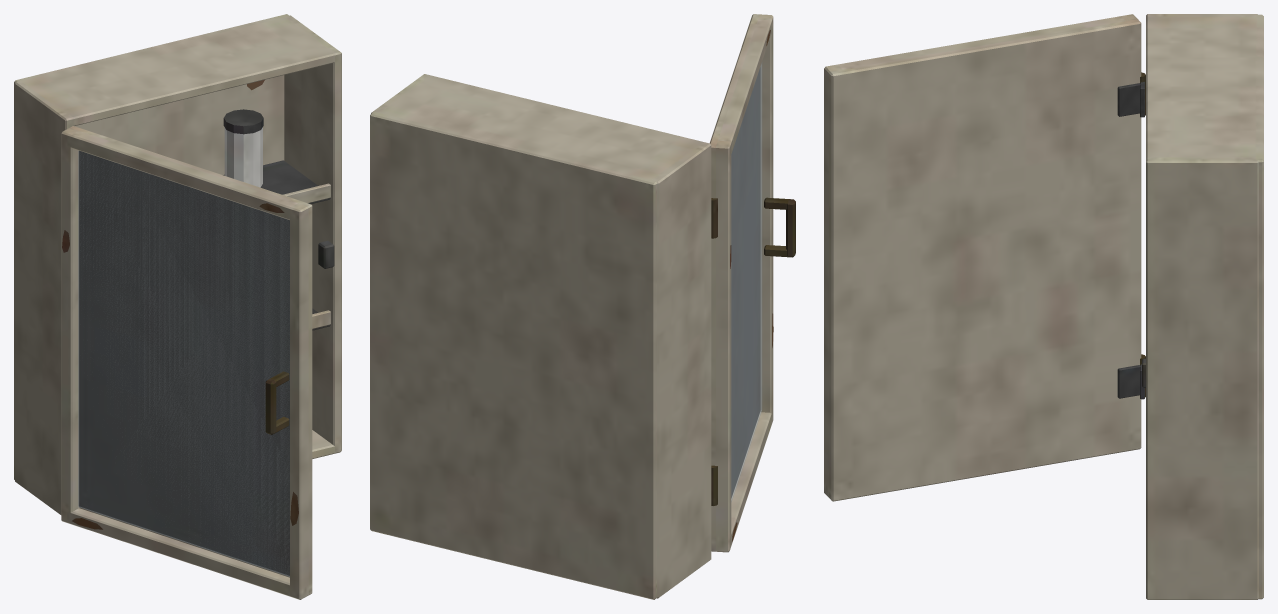
File: B19_bathroom_mirror_cabinet.glb
3 views of the same model, side by side, from view 1: azimuth 30°, elevation 25°; view 2: azimuth 150°, elevation 25°; view 3: azimuth 270°, elevation 25° (orthographic). The views are drawn at different scales.
Parts seen in each view (by area): view 1: Pressed back panel; view 2: Pressed back panel; view 3: Pressed back panel.
Boxes of the visible parts, <box> form: Pressed back panel: <box>14,14,341,599</box>; Pressed back panel: <box>370,14,795,599</box>; Pressed back panel: <box>824,14,1263,599</box>.
Bounding box in the file's own units: 0.4506 × 0.6 × 0.5443.
Materials: 9 (8 with a texture image).
